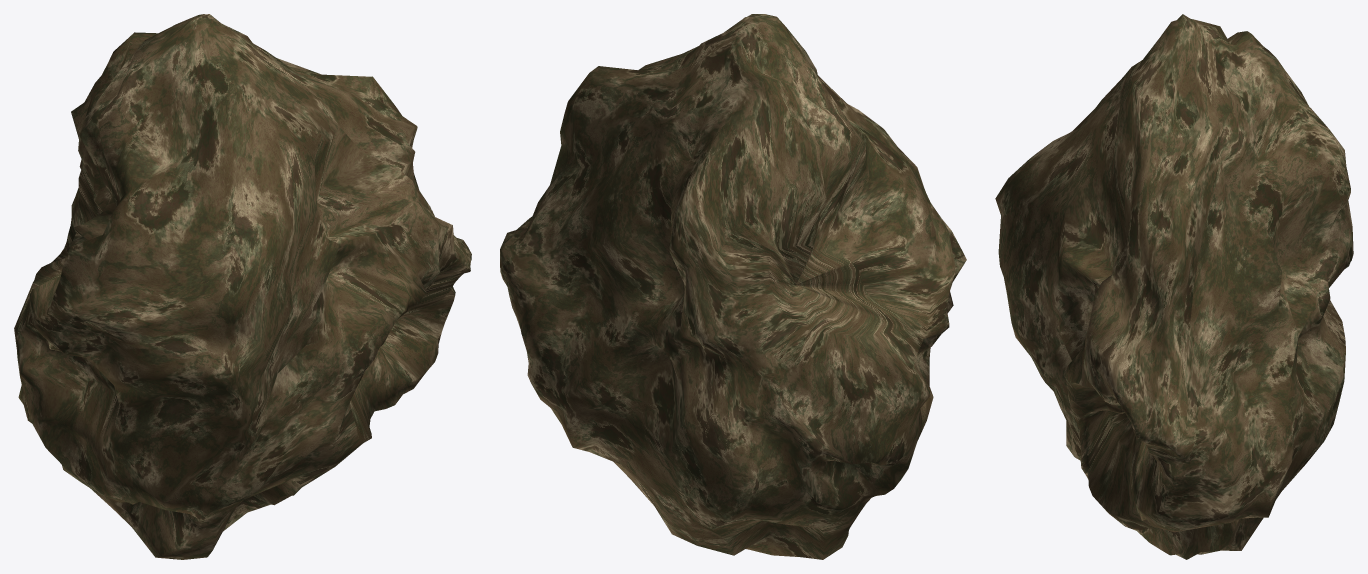
The model's file is Asteroid.fbx.
3 renders of one model, left to right at view 1: azimuth 30°, elevation 25°; view 2: azimuth 150°, elevation 25°; view 3: azimuth 270°, elevation 25°, orthographic. The views are drawn at different scales.
Parts seen in each view (by area): view 1: asteroid_1; view 2: asteroid_1; view 3: asteroid_1.
Part boxes in pixels (box(x1,y1,x2,y2)): asteroid_1: box(14, 14, 471, 559); asteroid_1: box(500, 14, 966, 559); asteroid_1: box(995, 14, 1353, 559).
Bounding box in the file's own units: 324 × 379 × 231.
1 material, 1 textured.
